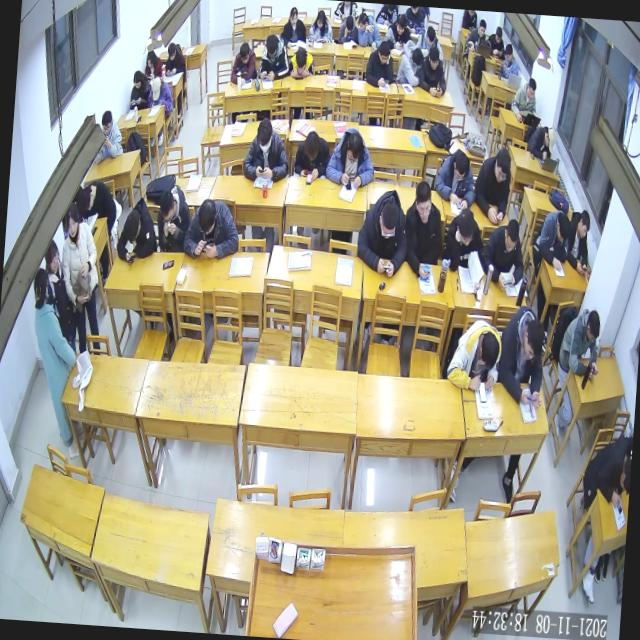bow: (180, 194, 242, 262), (114, 194, 161, 267), (535, 203, 573, 273), (73, 177, 119, 227), (526, 122, 556, 162), (286, 44, 316, 82)
down: (410, 178, 436, 227), (520, 317, 546, 364), (376, 200, 400, 243), (477, 330, 501, 373), (454, 204, 476, 249), (196, 197, 218, 238), (492, 147, 512, 187), (253, 116, 274, 154), (157, 188, 176, 228), (502, 216, 521, 256), (122, 208, 142, 245), (344, 131, 364, 166), (584, 308, 602, 346), (303, 129, 321, 164), (554, 211, 572, 246), (450, 150, 468, 184), (76, 184, 95, 214), (98, 108, 114, 140), (577, 208, 592, 240), (264, 33, 280, 62), (426, 46, 441, 72), (376, 41, 390, 68), (542, 126, 556, 153), (393, 12, 408, 37), (238, 40, 252, 66), (150, 74, 162, 102), (294, 46, 308, 70), (525, 76, 537, 102), (424, 22, 436, 46), (502, 42, 514, 66), (131, 67, 143, 90), (287, 5, 299, 28), (314, 8, 326, 31), (166, 40, 178, 61), (343, 14, 355, 34), (145, 48, 156, 69), (494, 24, 504, 45)
lookup: (62, 200, 82, 240), (44, 238, 62, 274), (476, 18, 487, 39)
sit: (22, 265, 82, 441), (54, 200, 108, 350), (493, 301, 548, 413), (354, 184, 412, 280), (442, 314, 504, 397), (400, 174, 447, 280), (440, 202, 488, 296), (580, 431, 632, 511), (478, 213, 528, 292), (322, 122, 378, 192), (240, 114, 292, 184), (556, 304, 604, 379), (471, 144, 514, 227), (431, 145, 480, 214), (154, 181, 193, 255), (291, 126, 332, 182), (92, 106, 126, 168), (563, 207, 593, 276), (256, 28, 292, 84), (416, 44, 449, 100), (362, 38, 396, 88), (394, 37, 424, 90), (509, 73, 540, 124), (228, 39, 258, 88), (278, 3, 308, 49), (354, 8, 384, 52), (384, 12, 414, 54), (145, 74, 175, 114), (127, 66, 153, 111), (306, 7, 335, 46), (497, 42, 521, 82), (413, 23, 442, 56), (484, 22, 508, 59), (464, 17, 488, 54), (163, 41, 186, 78), (336, 12, 361, 46), (143, 46, 164, 81)
